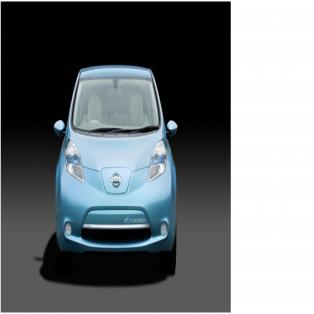Auto: (52, 63, 178, 279)
